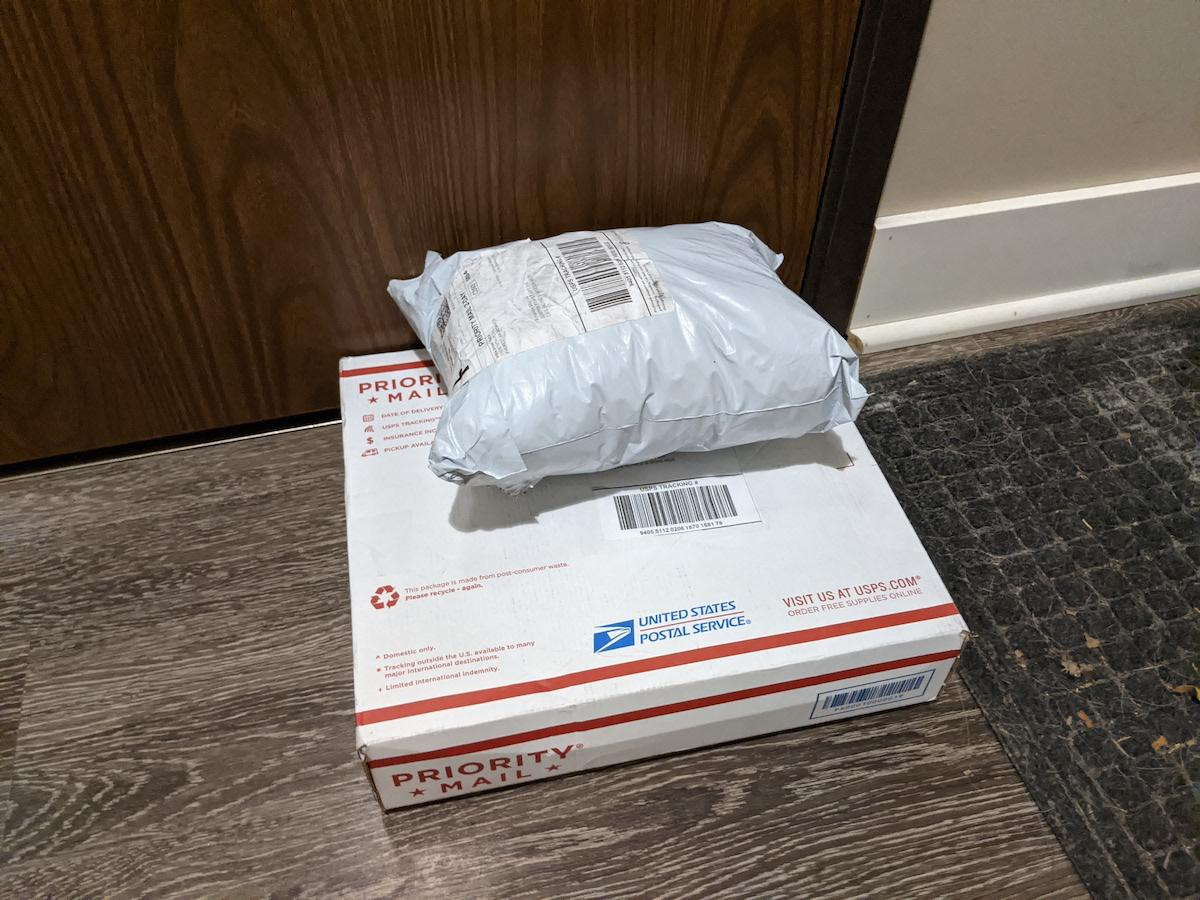package: (332, 333, 972, 818), (377, 217, 873, 500)
